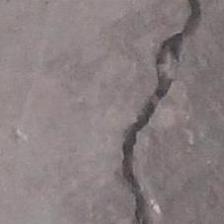Crack: (116, 0, 224, 224)
